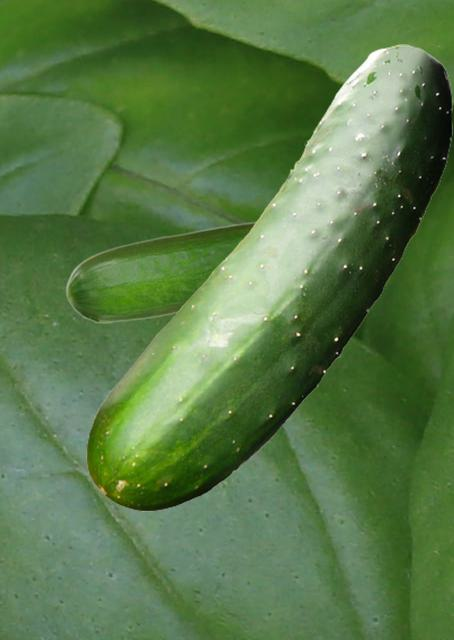cucumber: (86, 44, 451, 510), (65, 219, 255, 323)
